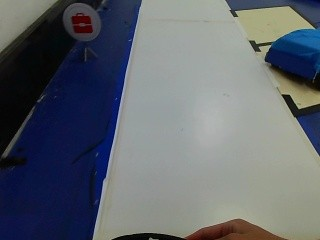company: (61, 4, 100, 39)
